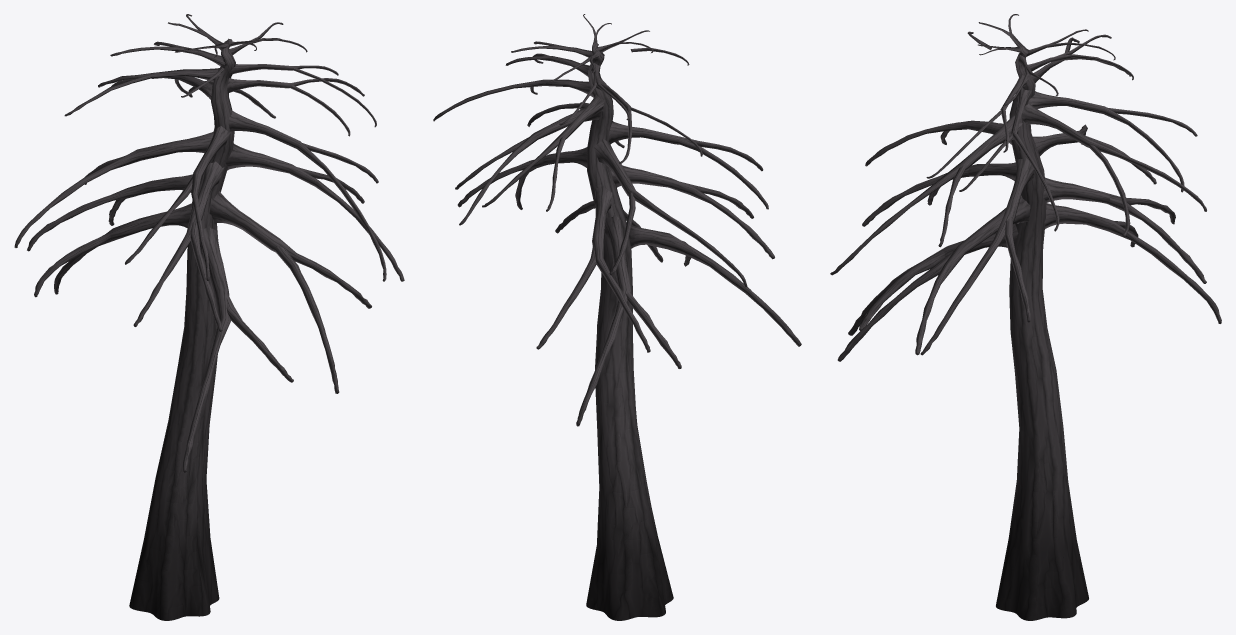
Rendered from DeadTree_4.gltf.
3 views of the same model, side by side, from view 1: azimuth 30°, elevation 25°; view 2: azimuth 150°, elevation 25°; view 3: azimuth 270°, elevation 25° (orthographic). The views are drawn at different scales.
Parts seen in each view (by area): view 1: DeadTree_4; view 2: DeadTree_4; view 3: DeadTree_4.
Part boxes in pixels (box(x1,y1,x2,y2)): DeadTree_4: box(14, 14, 404, 620); DeadTree_4: box(433, 14, 801, 620); DeadTree_4: box(830, 14, 1221, 620).
Size of the model in its own units: 7.96 by 12.77 by 7.73.
Materials: 1 (1 with a texture image).
